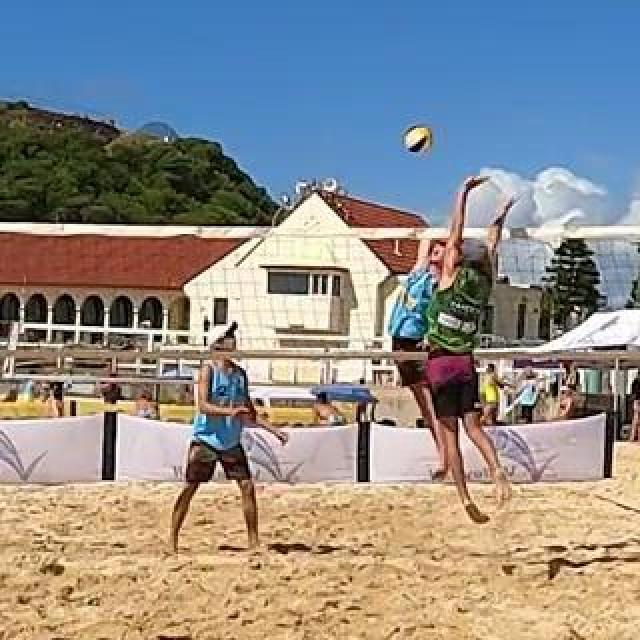volleyball: (404, 124, 432, 152)
